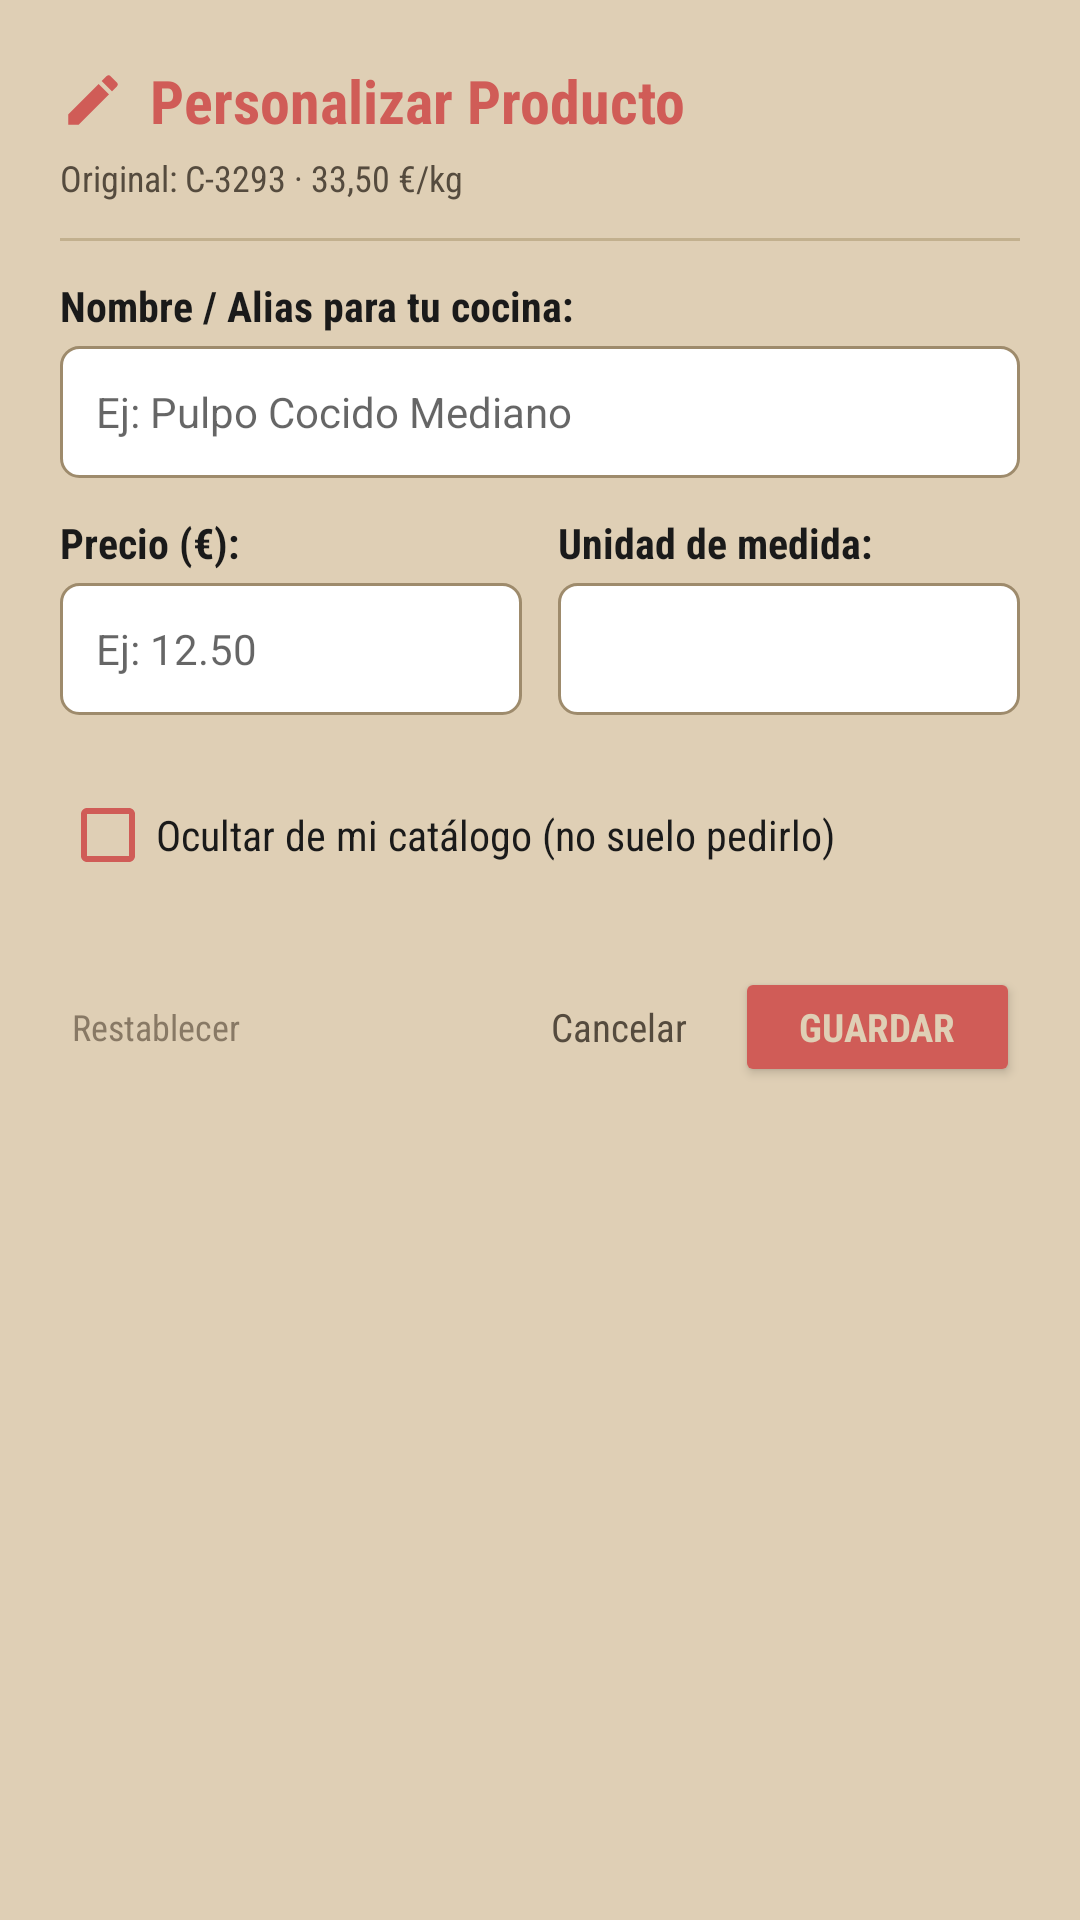

Named icons in this screenshot (1080w x 1920h) and their centers, (x=x, y=y):
pencil: (x=93, y=100)
